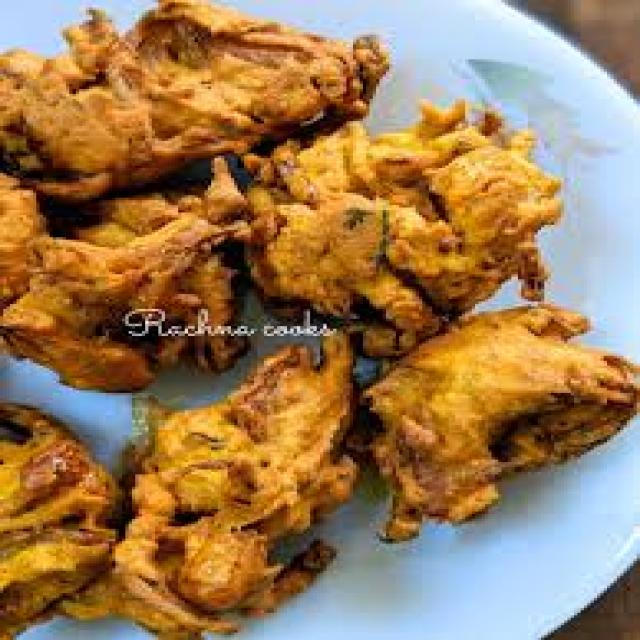BAJI: (0, 2, 637, 630)
